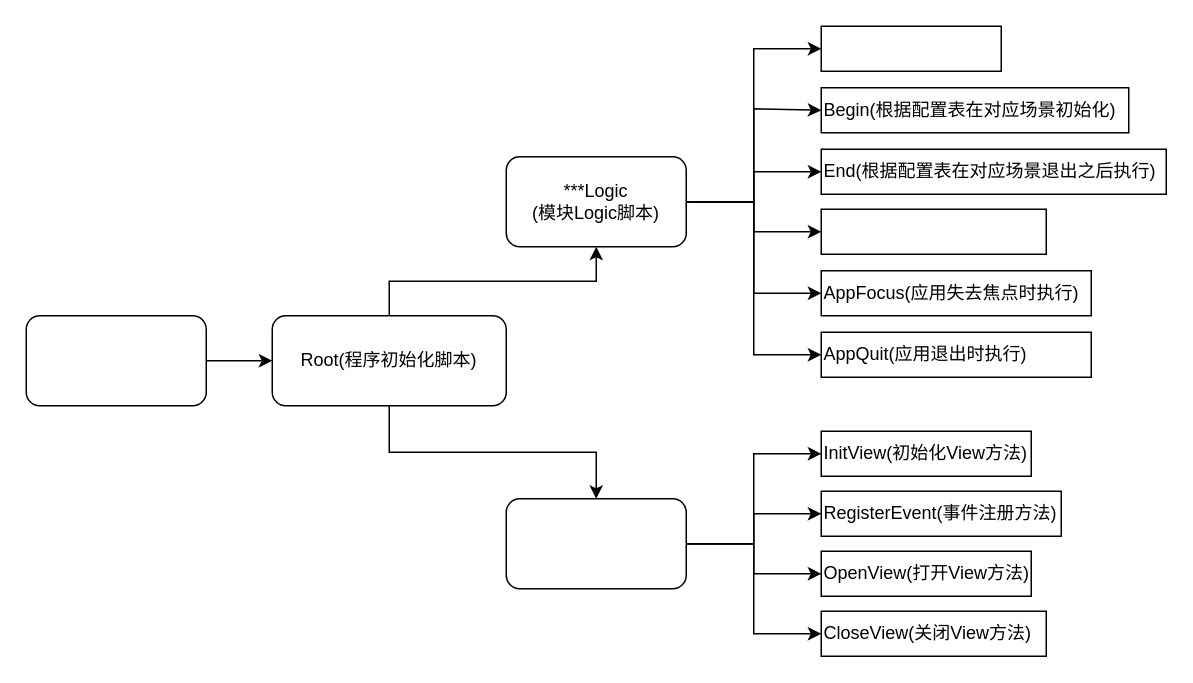
Some shapes in this 1193 by 683 pixel diagram are drawn without their labels. Here are the shapes that lost their labels. From the top down, the centre of each, then its label:
[910,48]: 构造方法(只执行一次)
[933,231]: AppPause(应用暂停时执行)
[115,360]: App(程序入口)
[595,543]: ***View (模块View脚本)
